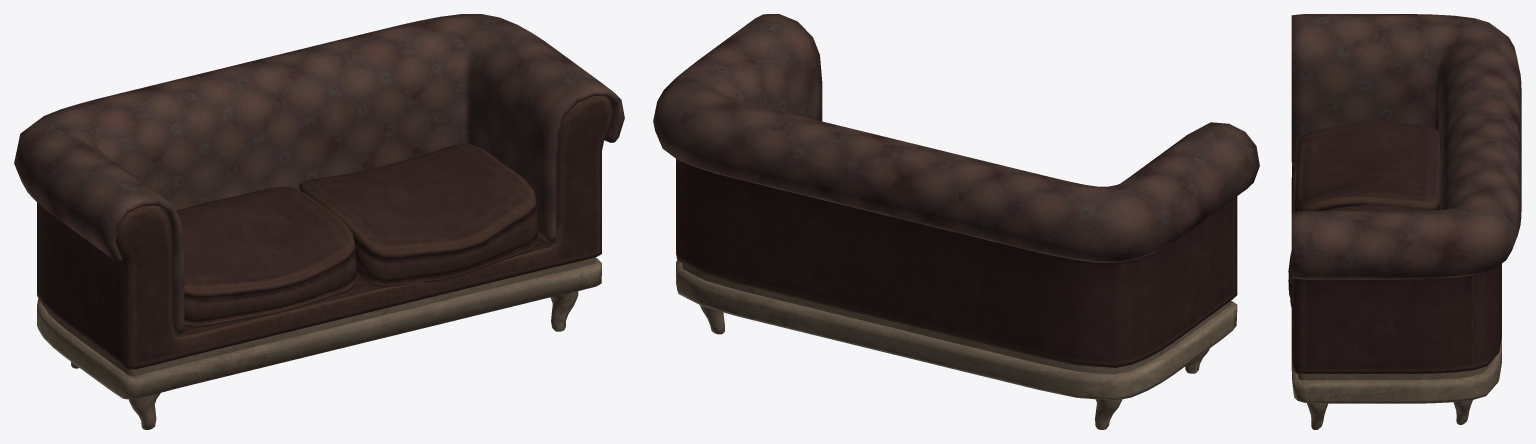
Rendered from big_sofa_1.glb.
3 views of the same model, side by side, from view 1: azimuth 30°, elevation 25°; view 2: azimuth 150°, elevation 25°; view 3: azimuth 270°, elevation 25° (orthographic). The views are drawn at different scales.
Visible parts, largest first — view 1: cloth.014, cloth.015, cloth.013; view 2: cloth.014; view 3: cloth.014, cloth.013, cloth.015.
Boxes of the visible parts, x1=… form: cloth.014: x1=14, y1=14, x2=624, y2=429; cloth.015: x1=299, y1=144, x2=538, y2=287; cloth.013: x1=176, y1=186, x2=357, y2=327; cloth.014: x1=653, y1=14, x2=1259, y2=429; cloth.014: x1=1291, y1=14, x2=1521, y2=429; cloth.013: x1=1294, y1=121, x2=1440, y2=211; cloth.015: x1=1288, y1=204, x2=1428, y2=307.
Size of the model in its own units: 1.97 by 0.8926 by 0.8534.
Materials: 1 (1 with a texture image).
